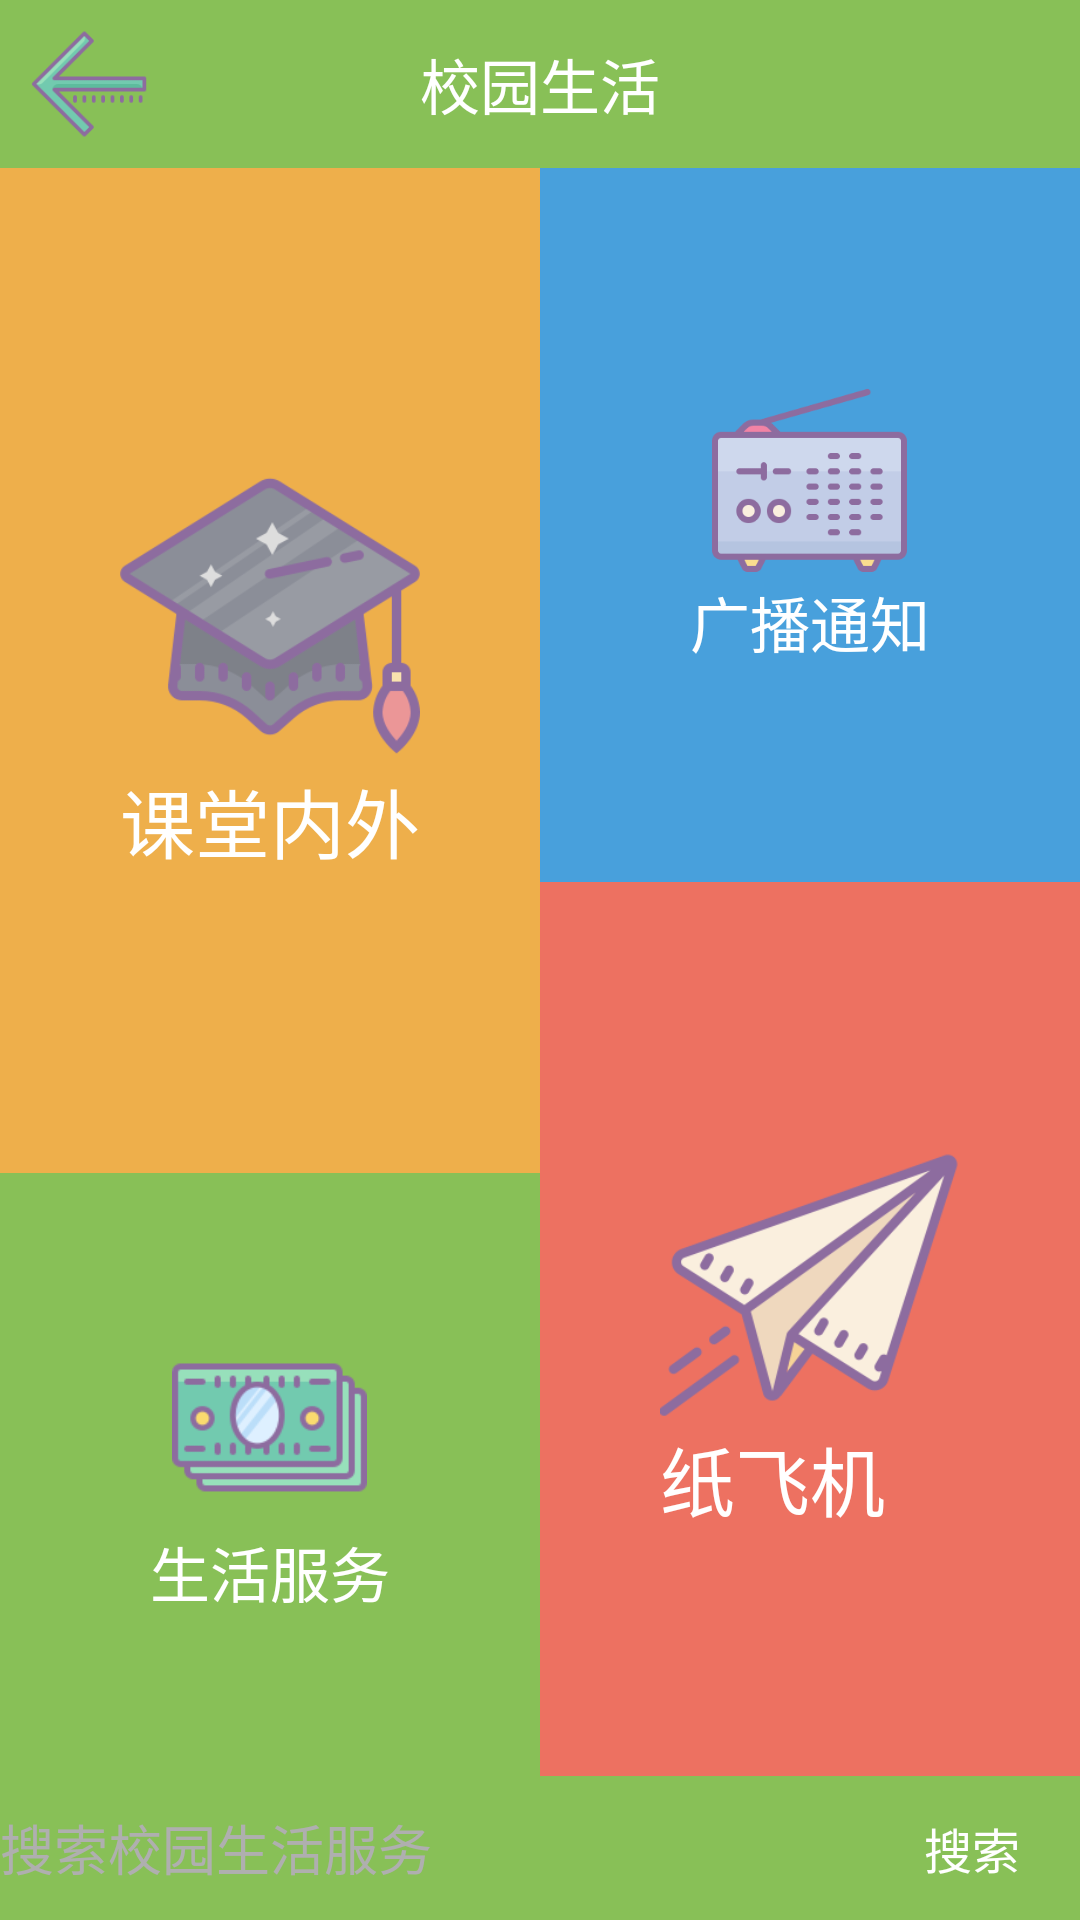

Where icons sit on this 1080*1920 app screen, as (x1, y1, x2, y2):
back: (32, 31, 146, 137)
school money: (172, 1363, 367, 1492)
school page: (120, 478, 420, 753)
